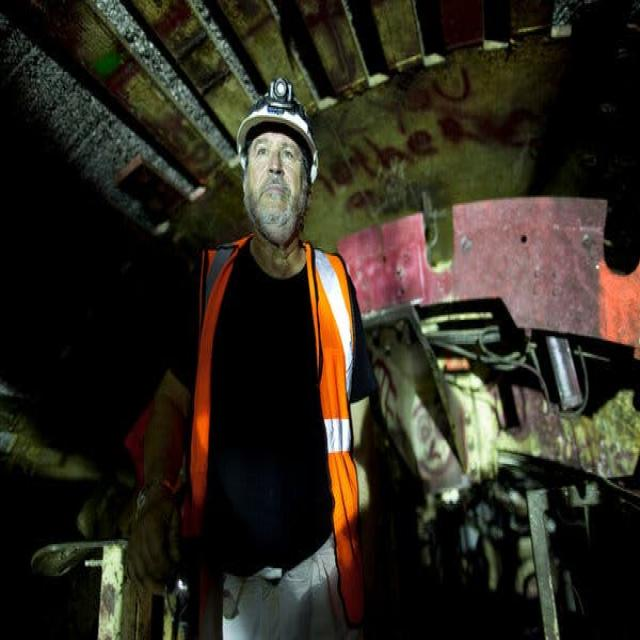helmet: (233, 86, 318, 193)
no-goggles: (239, 134, 316, 182)
vest: (187, 229, 372, 628)
